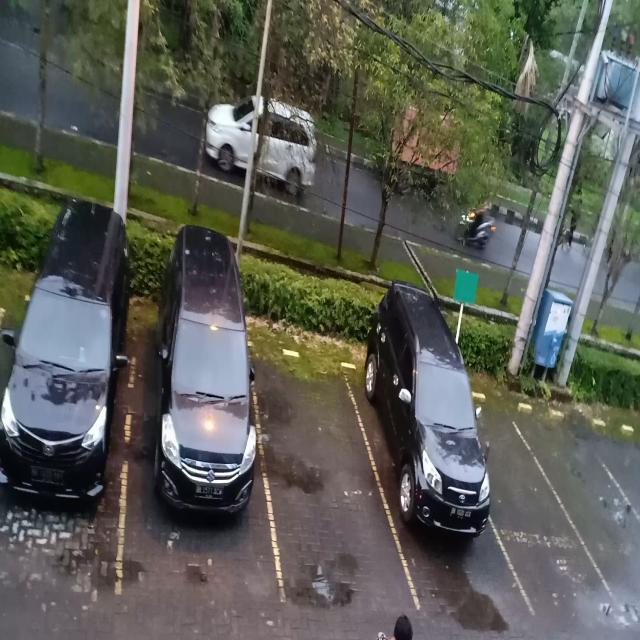empty: (261, 338, 376, 604), (491, 394, 571, 616), (560, 410, 632, 600)
occupied: (1, 245, 132, 572), (121, 296, 260, 583), (367, 338, 496, 602)
